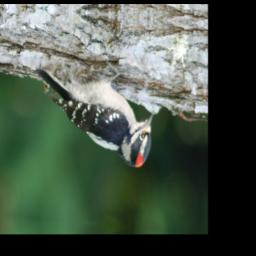Woodpecker: (30, 60, 159, 173)
